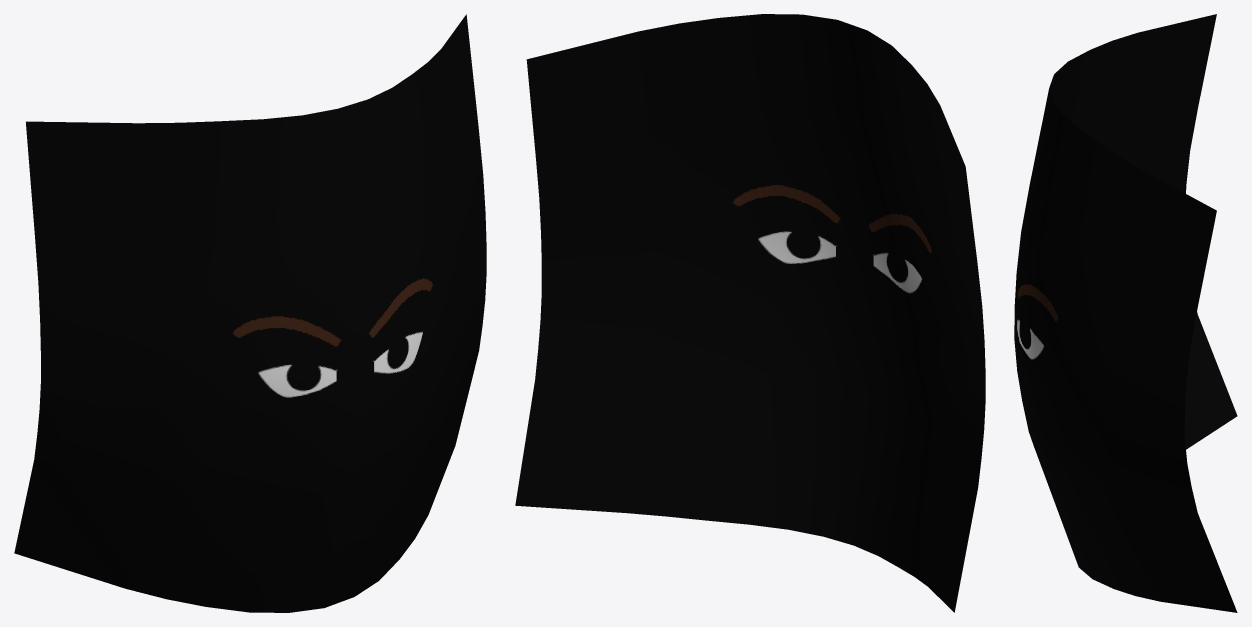
The model's file is Mask_2.glb.
3 renders of one model, left to right at view 1: azimuth 30°, elevation 25°; view 2: azimuth 150°, elevation 25°; view 3: azimuth 270°, elevation 25°, orthographic. The views are drawn at different scales.
Visible parts, largest first — view 1: Face02; view 2: Face02; view 3: Face02.
Boxes of the visible parts, left/top/right/bottom form: Face02: left=14, top=14, right=486, bottom=612; Face02: left=515, top=14, right=985, bottom=612; Face02: left=1014, top=14, right=1237, bottom=612.
Bounding box in the file's own units: 91.85 × 100 × 43.58.
Materials: 1 (1 with a texture image).
